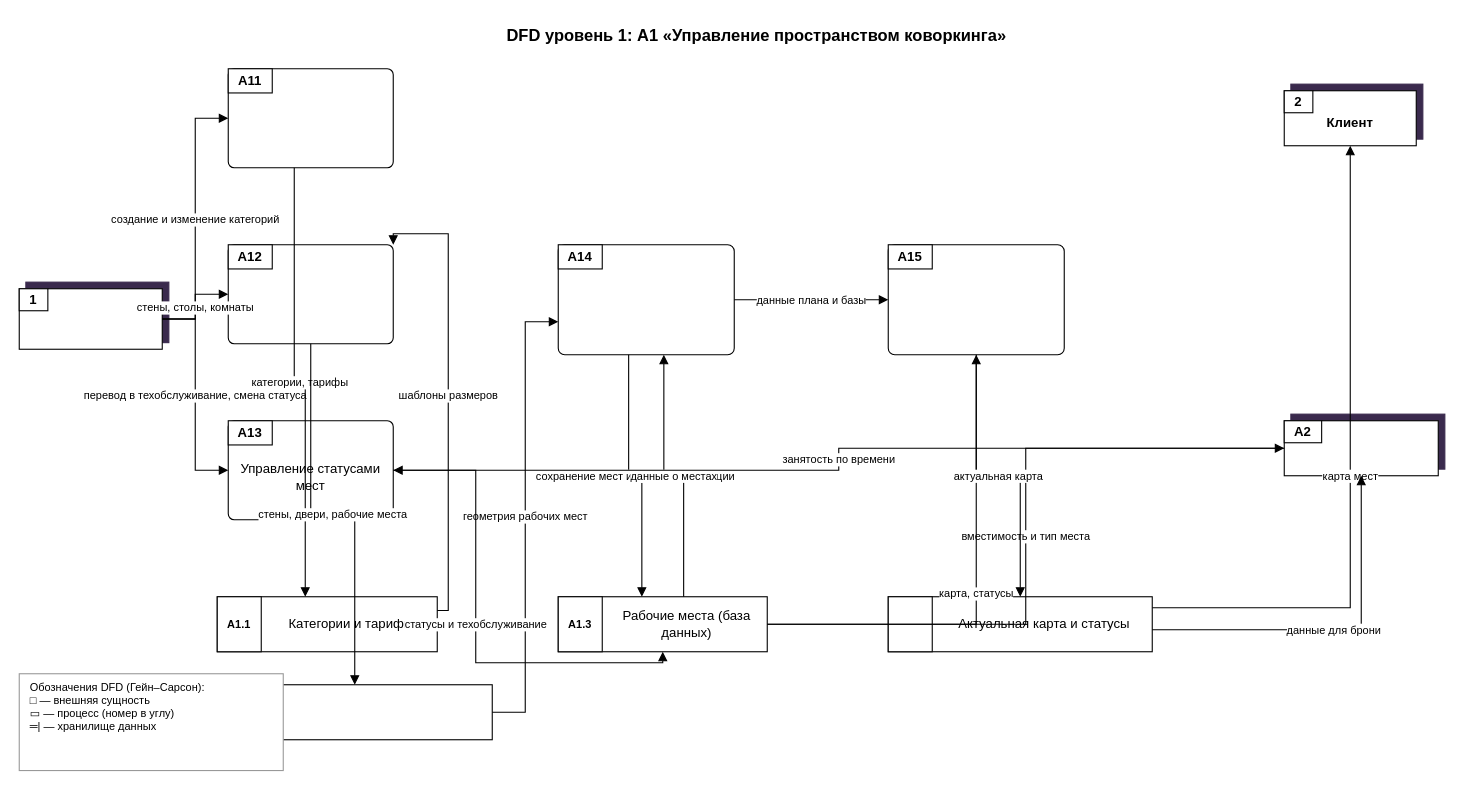
Image size: 1464x790. Some labels were removed from this diagram. The box of each missing label's shape, as (x1, y1, x2, y2) in pixels:
A1.4: (887, 596, 932, 652)
Администратор: (18, 288, 162, 349)
Бронирования: (1283, 420, 1438, 476)
Внесение категорий и тарифов мест: (227, 68, 393, 168)
План помещения (стены, двери, рабочие места): (216, 684, 492, 740)
Редактирование планировки (редактор): (227, 244, 393, 344)
Согласование данных о местах (база и план помещения): (557, 244, 734, 355)
Формирование актуальной карты: (887, 244, 1064, 355)
